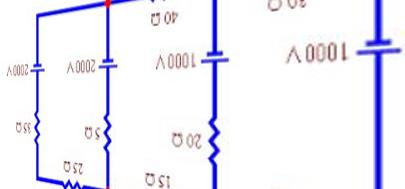resistor: (202, 112, 232, 166), (28, 108, 47, 149), (99, 105, 115, 153)
